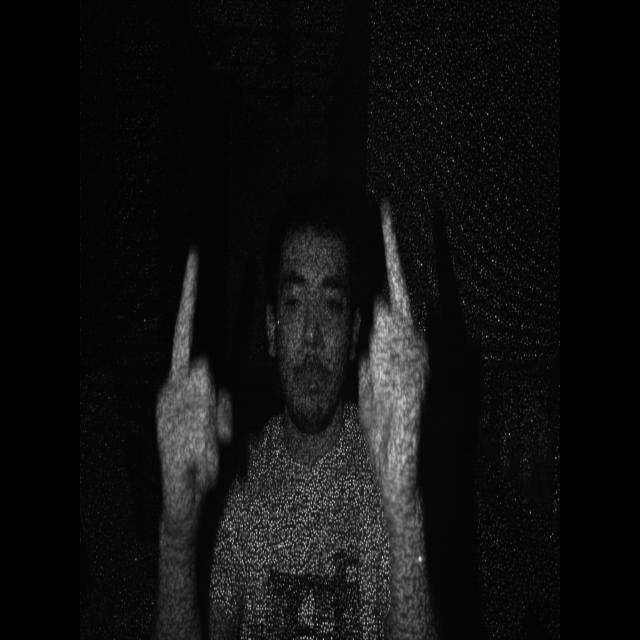STARS: (136, 230, 245, 511), (354, 212, 450, 513)
